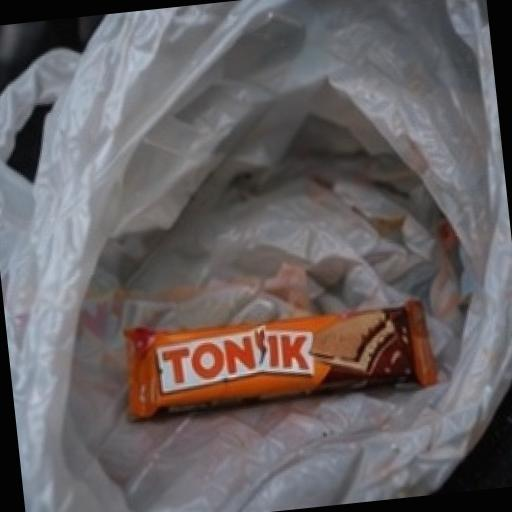tonik: (40, 229, 489, 512)
